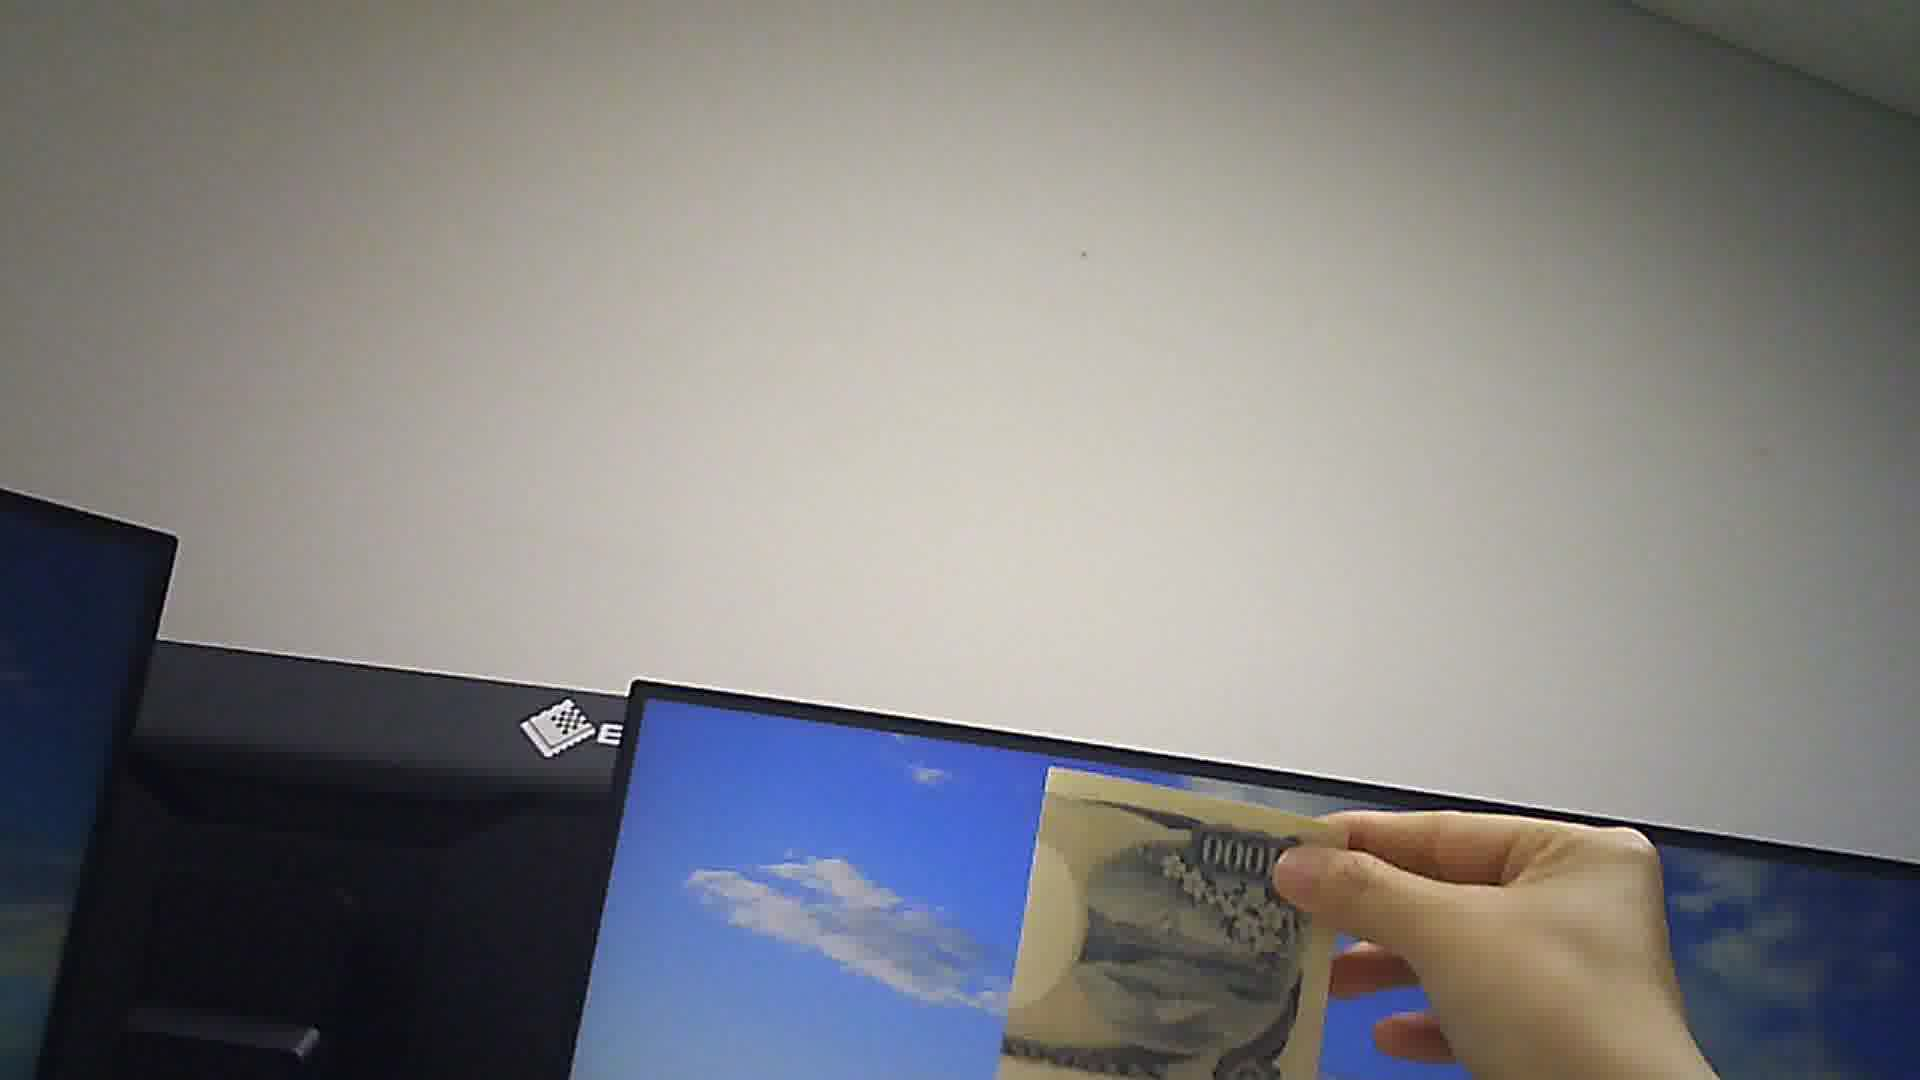1,000 Yen: (982, 767, 1353, 1079)
